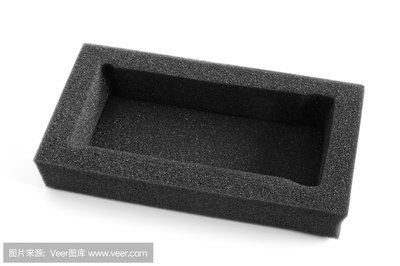5/可回收垃圾/泡沫: (33, 43, 364, 240)
